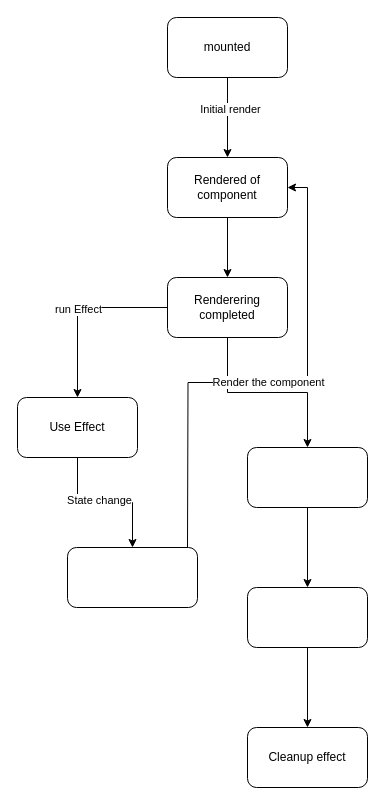
The diagram is 385 pixels wide and 805 high, and some of its shapes have lost their labels. Each missing label, with the centre of its shape:
"Cleanup" belongs at point (307, 477).
"State of component update" belongs at point (132, 577).
"unmounted" belongs at point (307, 617).
